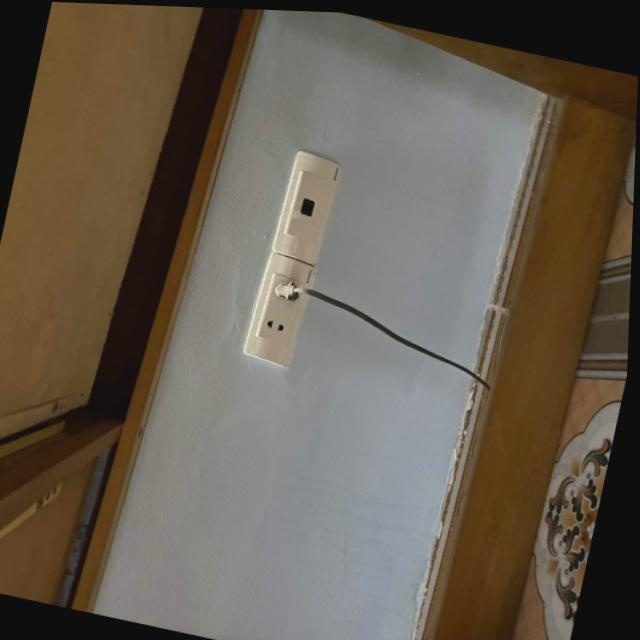outlet: (241, 249, 318, 370), (270, 147, 342, 266)
